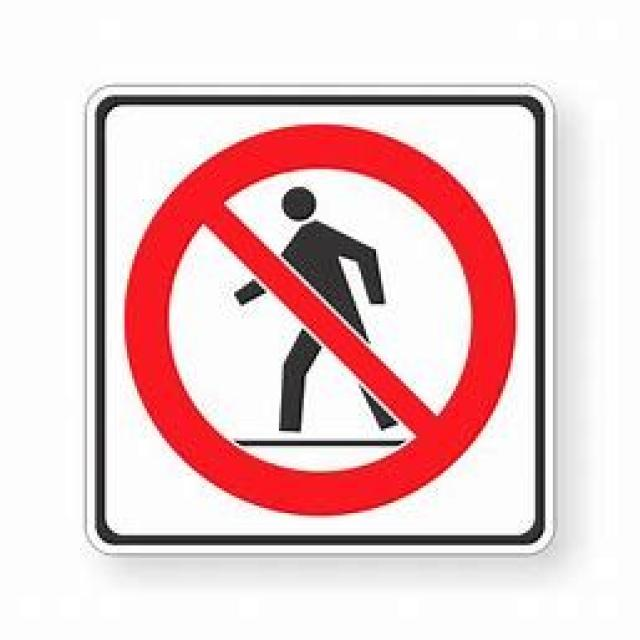Priority road: (117, 117, 516, 511)
